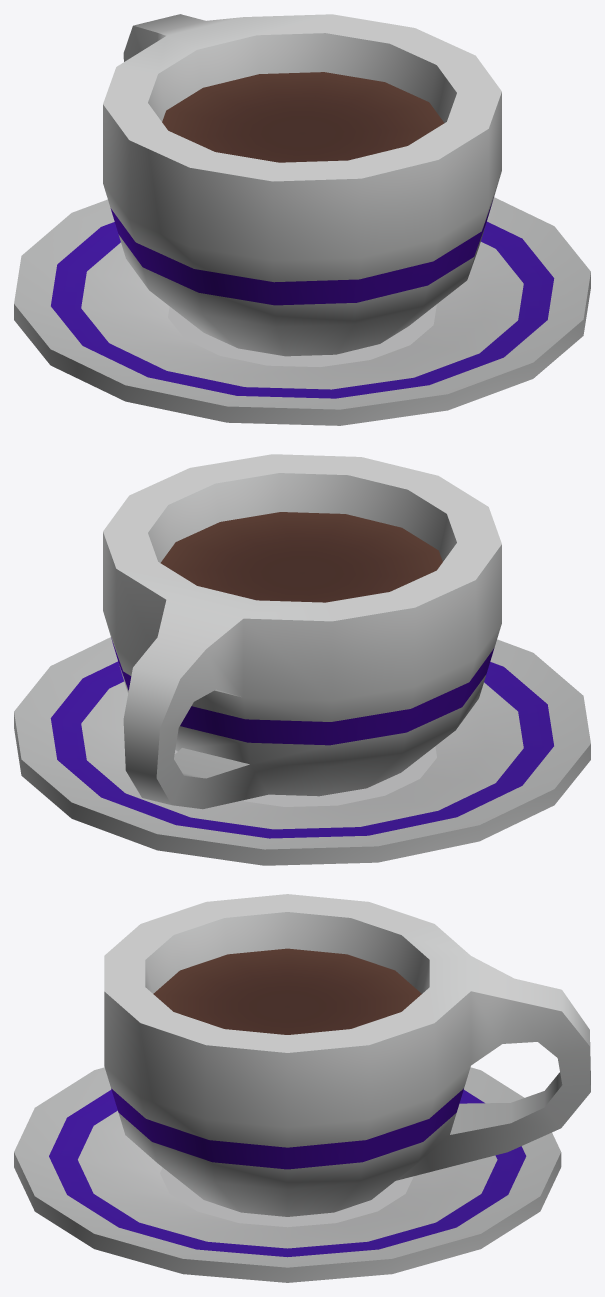
File: Product Coffee.fbx
3 views of the same model, one above another, from view 1: azimuth 30°, elevation 25°; view 2: azimuth 150°, elevation 25°; view 3: azimuth 270°, elevation 25° (orthographic). The views are drawn at different scales.
Visible parts, largest first — view 1: Product_Coffee; view 2: Product_Coffee; view 3: Product_Coffee.
Boxes of the visible parts, x1,y1,x2,y2 form: Product_Coffee: (14, 14, 590, 425); Product_Coffee: (14, 454, 590, 865); Product_Coffee: (14, 894, 590, 1282).
Size of the model in its own units: 136 by 58.78 by 143.
